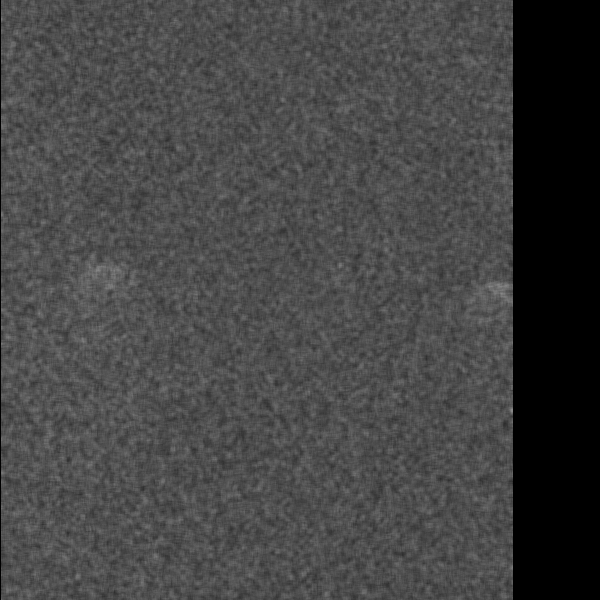spark: (78, 256, 134, 283)
